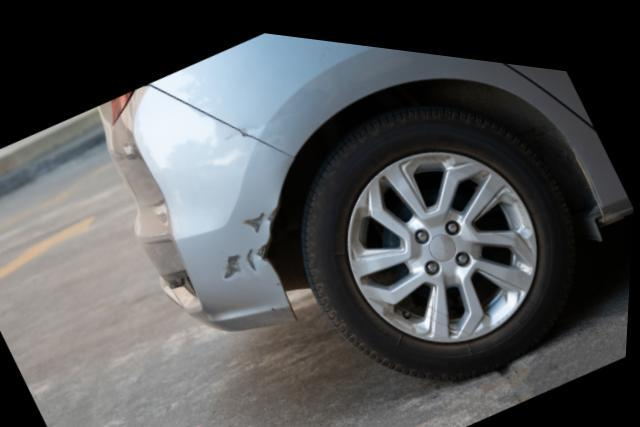scratch: (223, 196, 280, 276)
